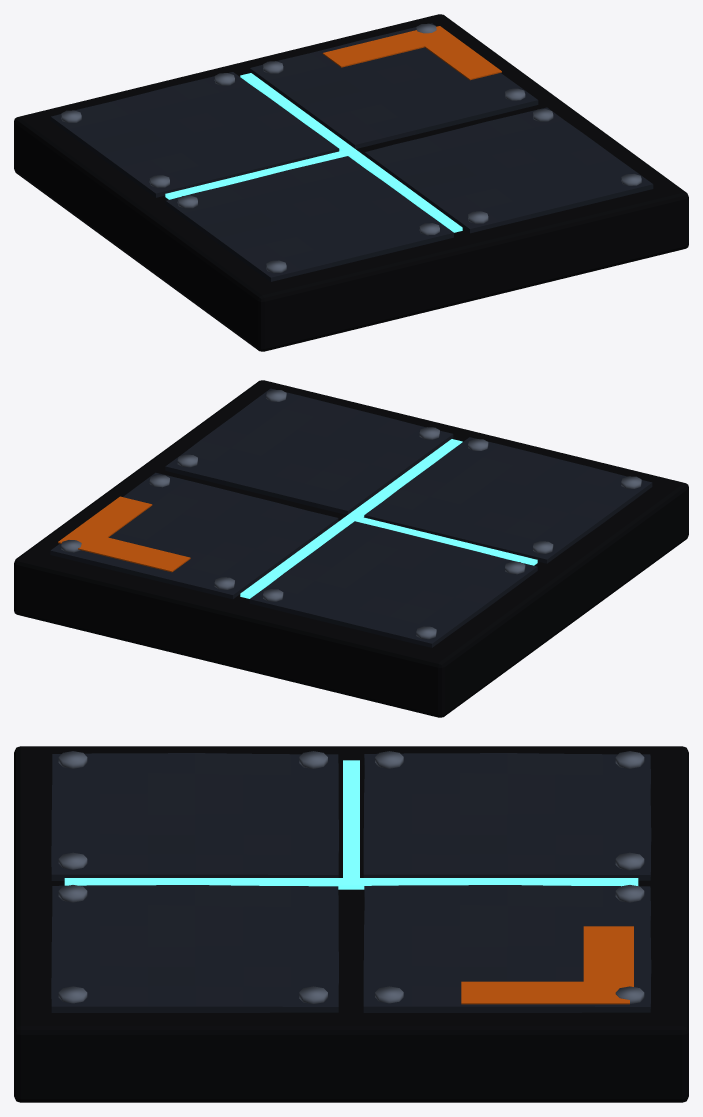
Rendered from FloorTileB.glb.
3 renders of one model, top to bottom at view 1: azimuth 30°, elevation 25°; view 2: azimuth 150°, elevation 25°; view 3: azimuth 270°, elevation 25°, orthographic. The views are drawn at different scales.
Visible parts, largest first — view 1: Body, Groove_Glow; view 2: Body, Groove_Glow; view 3: Body, Groove_Glow.
Part boxes in pixels (left/top/right/bottom): Body: left=14, top=14, right=688, bottom=351; Groove_Glow: left=165, top=73, right=462, bottom=232; Body: left=14, top=380, right=688, bottom=717; Groove_Glow: left=240, top=439, right=537, bottom=598; Body: left=14, top=746, right=688, bottom=1102; Groove_Glow: left=64, top=760, right=638, bottom=889.
Bounding box in the file's own units: 8 × 1.15 × 8.
